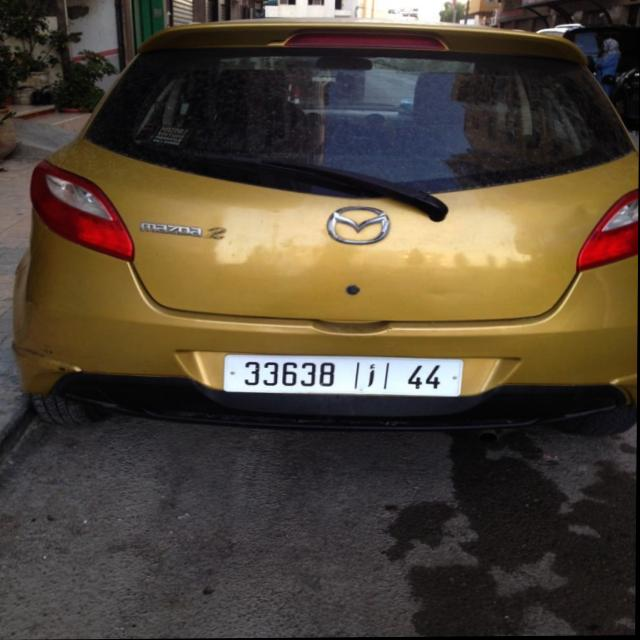License-Plate: (224, 355, 463, 397)
